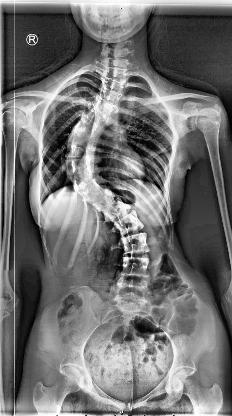Vertebrae: (108, 208, 146, 236), (74, 113, 108, 138), (118, 232, 152, 256), (114, 275, 152, 295), (86, 105, 120, 127), (119, 256, 153, 278), (78, 176, 104, 204), (91, 94, 122, 116), (90, 187, 116, 213), (64, 140, 97, 160), (69, 166, 93, 192), (103, 196, 129, 220), (98, 84, 127, 104), (62, 158, 90, 178), (68, 130, 98, 148), (99, 75, 127, 93)
